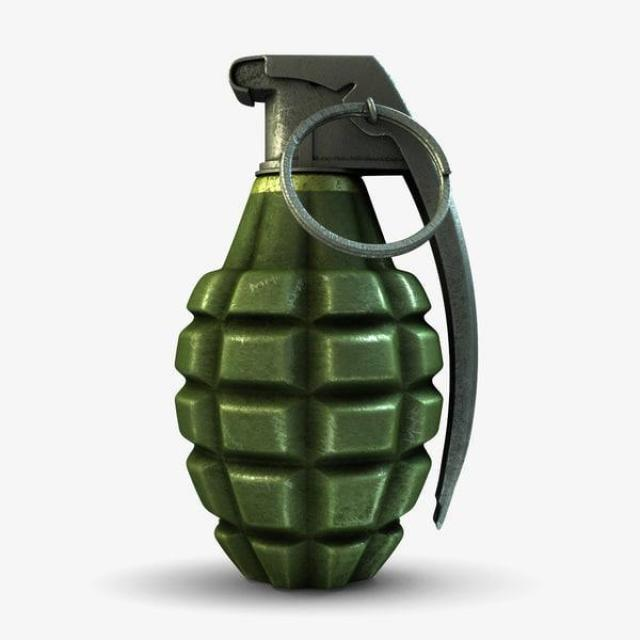grenade: (177, 54, 480, 593)
